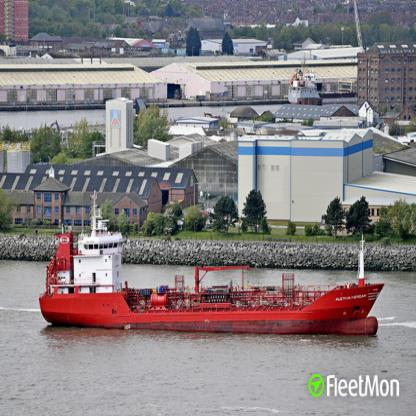Merchant Ship: (39, 189, 385, 336)
